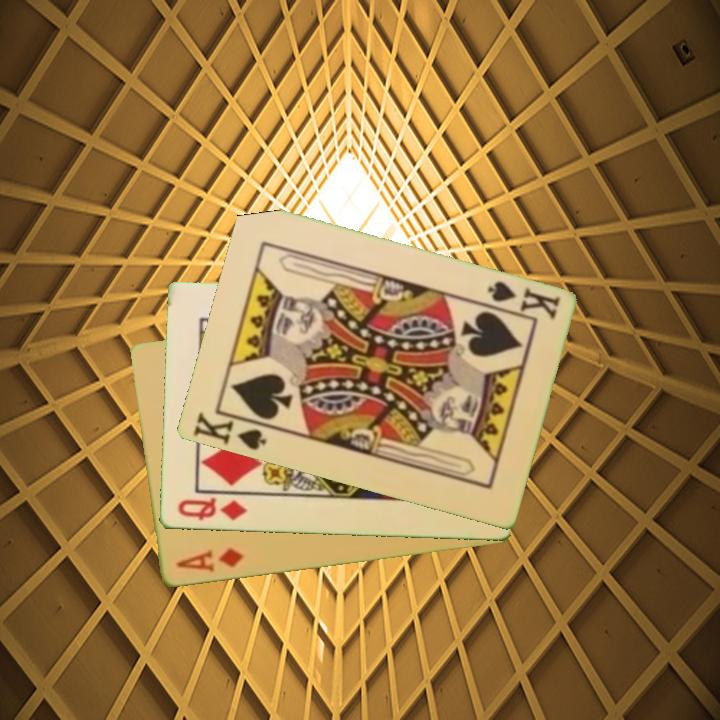Ad: (172, 544, 246, 576)
Ks: (189, 408, 274, 454), (483, 277, 562, 323)
Qd: (174, 494, 249, 524)
